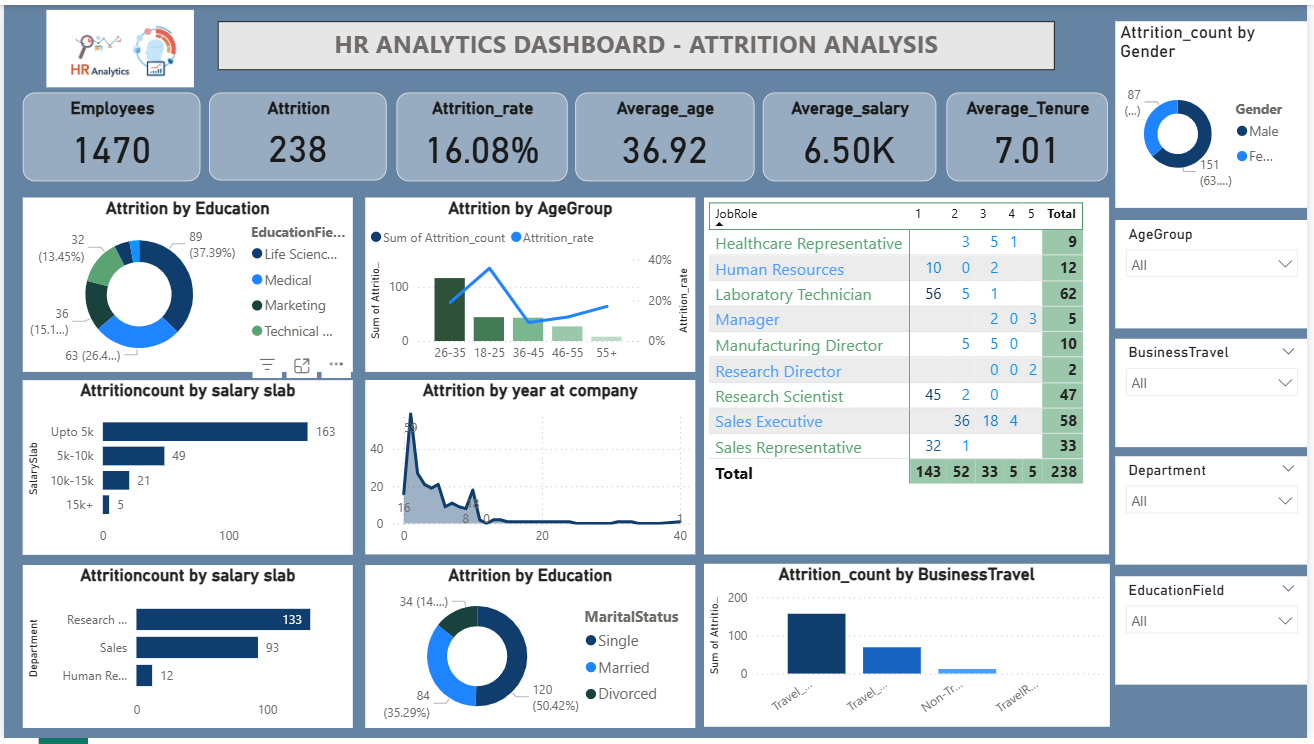

What the dashboard file says about the page in this screenshot:
{"tool":"powerbi","page":{"name":"Page 1","canvas":[1280,720],"ordinal":0},"visuals":[{"type":"textbox","box":[210.3,16.1,821.8,48.3],"z":0},{"type":"card","title":" Employees","fields":{"Values":["Count(HR_Analytics.EmpID)"]},"box":[18.4,86.2,174.7,87.4],"z":1000},{"type":"card","title":"Attrition","fields":{"Values":["Sum(HR_Analytics.Attrition_count)"]},"box":[201.1,86.2,174.7,86.2],"z":2000},{"type":"card","title":"Attrition_rate","fields":{"Values":["HR_Analytics.Attrition_rate"]},"box":[385.1,86.2,167.8,87.4],"z":3000},{"type":"card","title":"Average_age","fields":{"Values":["Avg(HR_Analytics.Age)"]},"box":[560.9,86.2,175.9,87.4],"z":4000},{"type":"card","title":"Average_salary","fields":{"Values":["Avg(HR_Analytics.MonthlyIncome)"]},"box":[744.8,86.2,170.1,87.4],"z":5000},{"type":"card","title":"Average_Tenure","fields":{"Values":["Avg(HR_Analytics.YearsAtCompany)"]},"box":[925.2,85.9,158.3,87.1],"z":6000},{"type":"donutChart","title":"Attrition_count by Gender","fields":{"Category":["HR_Analytics.Gender"],"Y":["Sum(HR_Analytics.Attrition_count)"]},"box":[1090.4,15.7,189.2,183.1],"z":7000},{"type":"donutChart","title":"Attrition by Education","fields":{"Category":["HR_Analytics.EducationField","HR_Analytics.YearsAtCompany"],"Y":["Sum(HR_Analytics.Attrition_count)"]},"box":[18.1,189.2,324.1,171.1],"z":8000},{"type":"lineStackedColumnComboChart","title":" Attrition by AgeGroup","fields":{"Category":["HR_Analytics.AgeGroup"],"Y":["Sum(HR_Analytics.Attrition_count)"],"Y2":["HR_Analytics.Attrition_rate"]},"box":[354.2,189.2,324.1,171.1],"z":9000},{"type":"pivotTable","fields":{"Columns":["HR_Analytics.JobLevel"],"Rows":["HR_Analytics.JobRole"],"Values":["Sum(HR_Analytics.Attrition_count)"]},"box":[686.7,189.2,397.6,350.6],"z":10000},{"type":"barChart","title":" Attritioncount by salary slab","fields":{"Category":["HR_Analytics.SalarySlab"],"Y":["Sum(HR_Analytics.Attrition_count)"]},"box":[18.1,368.7,324.1,171.1],"z":11000},{"type":"areaChart","title":"Attrition by year at company","fields":{"Category":["HR_Analytics.YearsAtCompany"],"Y":["Sum(HR_Analytics.Attrition_count)"]},"box":[354.2,368.7,324.1,171.1],"z":12000},{"type":"donutChart","title":"Attrition by Education","fields":{"Y":["Sum(HR_Analytics.Attrition_count)"],"Category":["HR_Analytics.MaritalStatus"]},"box":[354.2,549.4,324.1,160.2],"z":13000},{"type":"barChart","title":" Attritioncount by salary slab","fields":{"Y":["Sum(HR_Analytics.Attrition_count)"],"Category":["HR_Analytics.Department"]},"box":[18.1,549.4,324.1,160.2],"z":14000},{"type":"columnChart","title":"Attrition_count by BusinessTravel","fields":{"Category":["HR_Analytics.BusinessTravel"],"Y":["Sum(HR_Analytics.Attrition_count)"]},"box":[687,549,398,160],"z":15000},{"type":"slicer","fields":{"Values":["HR_Analytics.BusinessTravel"]},"box":[1090.4,327.7,189.2,106],"z":16000},{"type":"slicer","fields":{"Values":["HR_Analytics.EducationField"]},"box":[1090.4,560.2,189.2,106],"z":17000},{"type":"slicer","fields":{"Values":["HR_Analytics.Department"]},"box":[1090.4,443.4,189.2,106],"z":18000},{"type":"slicer","fields":{"Values":["HR_Analytics.AgeGroup"]},"box":[1090.4,210.8,189.2,106],"z":19000},{"type":"image","box":[18.4,0,191.4,85.9],"z":20000}]}

Visuals, with their boxes in screenshot pixels (x1, y1, x2, y2), scaled from the page's 1280x720 canvas onto the 1314x744 screenshot:
textbox: <region>216, 17, 1060, 67</region>
" Employees" card: <region>19, 89, 198, 179</region>
"Attrition" card: <region>206, 89, 386, 178</region>
"Attrition_rate" card: <region>395, 89, 568, 179</region>
"Average_age" card: <region>576, 89, 756, 179</region>
"Average_salary" card: <region>765, 89, 939, 179</region>
"Average_Tenure" card: <region>950, 89, 1112, 179</region>
"Attrition_count by Gender" donutChart: <region>1119, 16, 1313, 205</region>
"Attrition by Education" donutChart: <region>19, 196, 351, 372</region>
" Attrition by AgeGroup" lineStackedColumnComboChart: <region>364, 196, 696, 372</region>
pivotTable - HR_Analytics.JobLevel x HR_Analytics.JobRole: <region>705, 196, 1113, 558</region>
" Attritioncount by salary slab" barChart: <region>19, 381, 351, 558</region>
"Attrition by year at company" areaChart: <region>364, 381, 696, 558</region>
"Attrition by Education" donutChart: <region>364, 568, 696, 733</region>
" Attritioncount by salary slab" barChart: <region>19, 568, 351, 733</region>
"Attrition_count by BusinessTravel" columnChart: <region>705, 567, 1114, 733</region>
slicer - HR_Analytics.BusinessTravel: <region>1119, 339, 1313, 448</region>
slicer - HR_Analytics.EducationField: <region>1119, 579, 1313, 688</region>
slicer - HR_Analytics.Department: <region>1119, 458, 1313, 568</region>
slicer - HR_Analytics.AgeGroup: <region>1119, 218, 1313, 327</region>
image: <region>19, 0, 215, 89</region>
